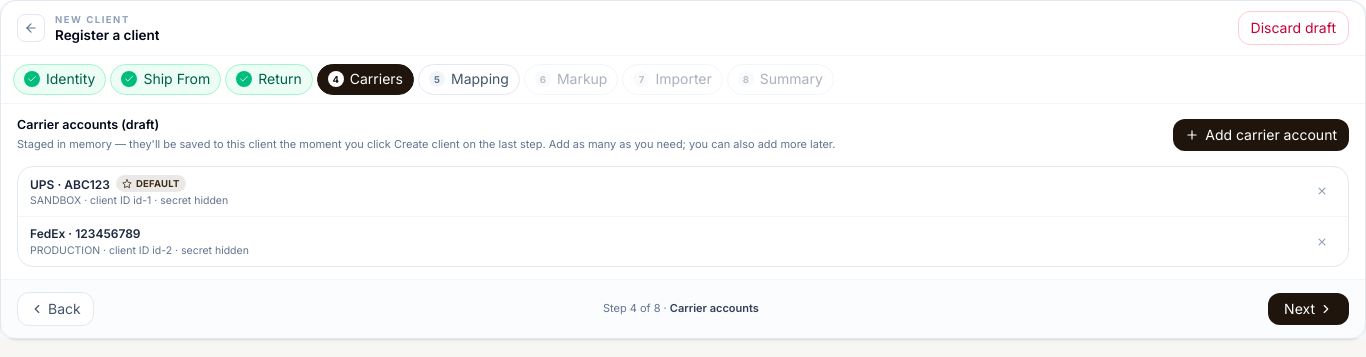
Scenario: CarrierDraftStep — positive cases › delete button removes a draft and the count updates
Expected: the heading "Carrier accounts (draft)" is shown, [17, 117, 159, 132]
Expected: the text "UPS · ABC123 default" is shown, [30, 175, 186, 192]
Click the button named "Remove 123456789". click: (1322, 242)
box: [1308, 228, 1336, 256]
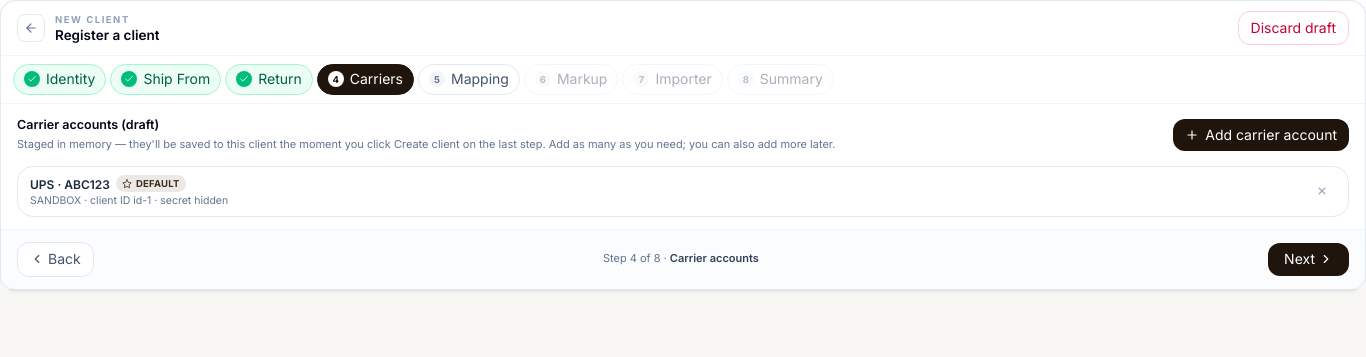
Expected: the text "UPS · ABC123 default" is shown, [30, 175, 186, 192]
Expected: the text "FedEx · 123456789" is gone
